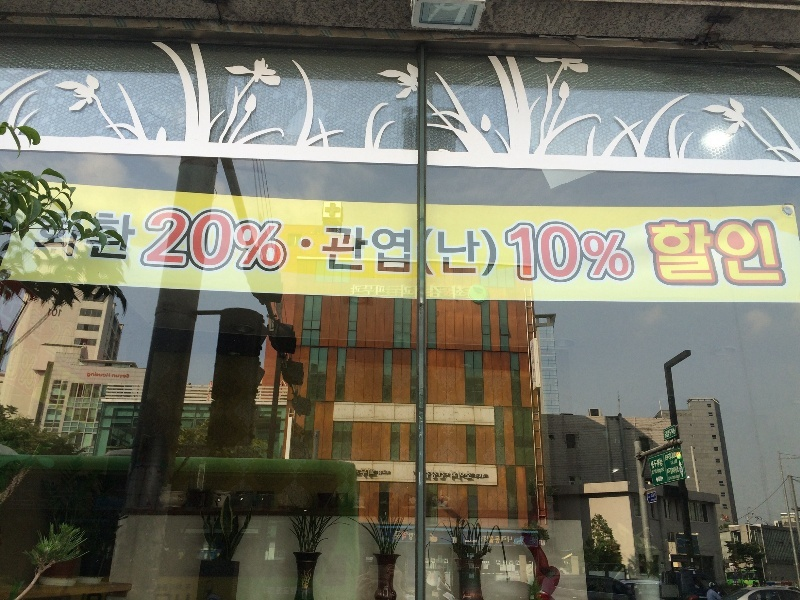text: (145, 207, 160, 276), (161, 207, 176, 276), (177, 207, 192, 276), (193, 207, 208, 276), (209, 207, 224, 276), (225, 207, 240, 276), (241, 207, 256, 276), (257, 207, 272, 276), (81, 366, 97, 425), (657, 223, 672, 283), (673, 223, 688, 283), (689, 223, 704, 283), (705, 223, 720, 283), (721, 223, 736, 283), (737, 223, 752, 283), (753, 223, 768, 283), (17, 334, 32, 394), (65, 317, 80, 377), (65, 366, 80, 425), (513, 225, 528, 278), (529, 225, 544, 278), (545, 225, 560, 278), (561, 225, 576, 278), (577, 225, 592, 278), (593, 225, 608, 278), (609, 225, 624, 278), (49, 212, 64, 262), (65, 212, 80, 262), (81, 212, 96, 262), (97, 212, 112, 262), (113, 212, 128, 262), (433, 229, 448, 278), (449, 229, 464, 278), (465, 229, 480, 278), (481, 229, 496, 278), (305, 227, 320, 275), (321, 227, 336, 275), (337, 227, 352, 275), (353, 227, 368, 275), (369, 227, 384, 275), (385, 227, 400, 275), (52, 366, 64, 425), (273, 207, 283, 276), (769, 223, 780, 283), (647, 223, 656, 283), (129, 212, 139, 262), (401, 227, 411, 275), (56, 317, 64, 377), (33, 334, 40, 394), (625, 225, 632, 278), (81, 317, 87, 377), (41, 212, 48, 262), (506, 225, 512, 278), (426, 229, 432, 278), (401, 285, 417, 299), (353, 285, 368, 299), (369, 285, 384, 299), (385, 285, 400, 299), (433, 285, 448, 299), (449, 285, 464, 299), (300, 227, 304, 275), (401, 531, 416, 541), (433, 470, 448, 480), (449, 470, 464, 480), (369, 468, 384, 478), (49, 308, 64, 318), (497, 536, 513, 545), (481, 536, 496, 545), (97, 371, 112, 380), (113, 371, 128, 380), (161, 584, 176, 593), (177, 584, 192, 593), (356, 468, 368, 478), (14, 334, 16, 394), (497, 229, 499, 278), (657, 458, 664, 470), (87, 371, 96, 380), (665, 451, 672, 462), (665, 428, 672, 439), (657, 467, 665, 476), (673, 473, 681, 482), (658, 477, 672, 482), (465, 470, 472, 480), (673, 466, 680, 475), (678, 544, 688, 550), (651, 458, 656, 470), (465, 540, 480, 544), (394, 531, 400, 541), (426, 470, 432, 480), (677, 412, 688, 417), (385, 468, 390, 478), (680, 467, 688, 473), (651, 467, 656, 476), (667, 466, 672, 475), (673, 451, 677, 462), (673, 458, 678, 466), (668, 473, 672, 482), (673, 428, 676, 439), (651, 493, 656, 499), (475, 473, 480, 479), (481, 473, 486, 479), (430, 285, 432, 299), (157, 584, 160, 593), (648, 496, 656, 499), (677, 538, 688, 540), (665, 413, 672, 416), (651, 498, 656, 502), (689, 412, 693, 417), (670, 458, 672, 466), (465, 285, 466, 299), (479, 536, 480, 545), (129, 371, 130, 380), (414, 471, 416, 475)
